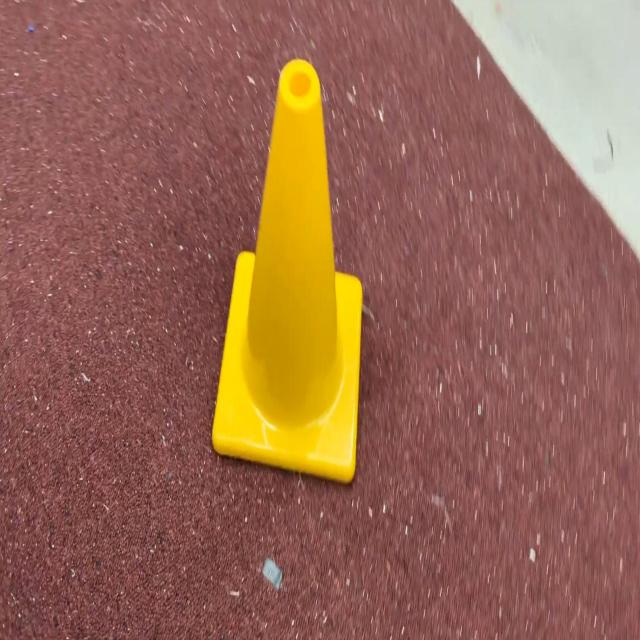frc_cone: (214, 60, 364, 490)
